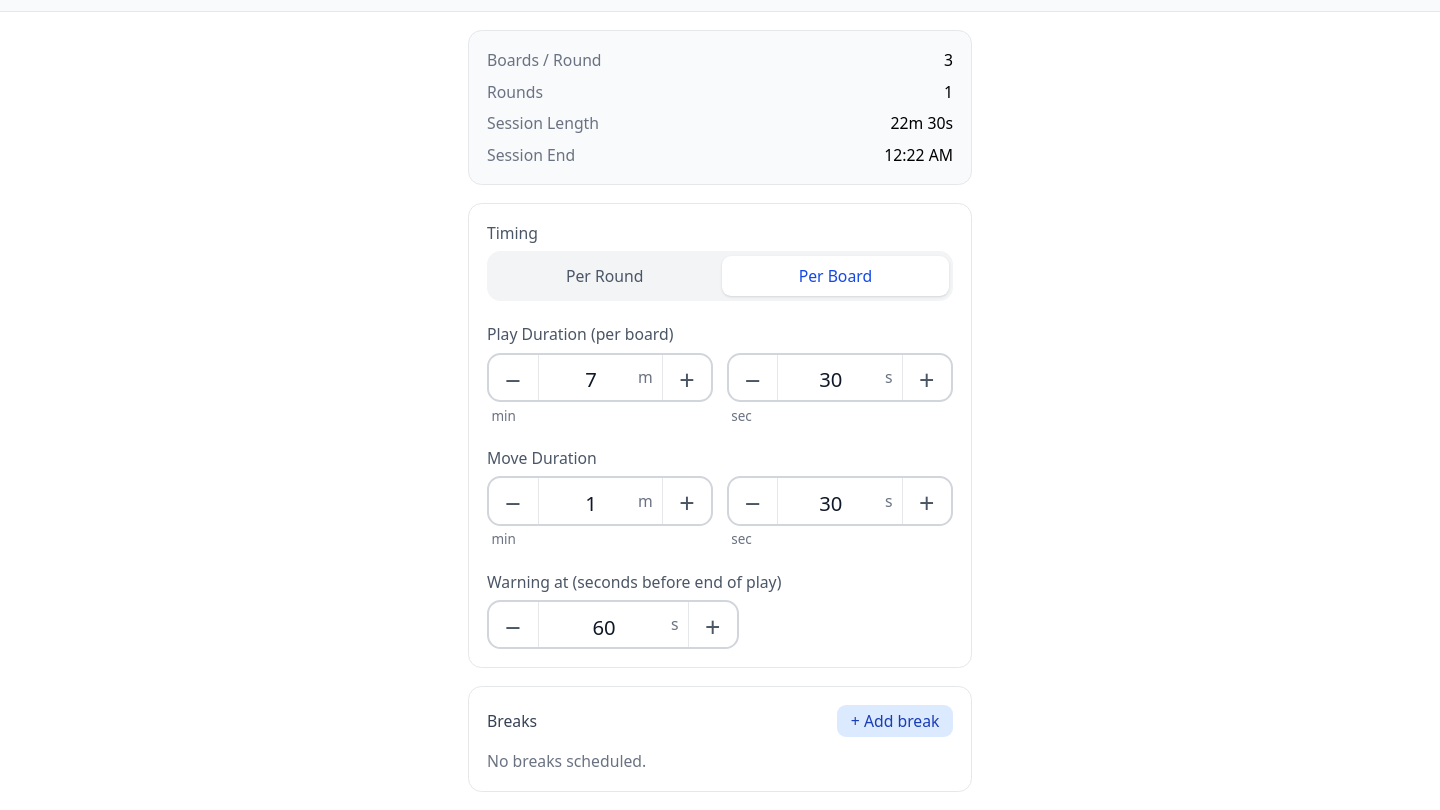
Test: TimerSetup (config screen) › adds a break when totalRounds is 1 (afterRound clamps to 1)
The width and height of the screenshot is (1440, 810).
(page scrolled)
Click the button "+ Add break" at [895, 721], box x1=837 y1=706 x2=953 y2=737
(page scrolled)
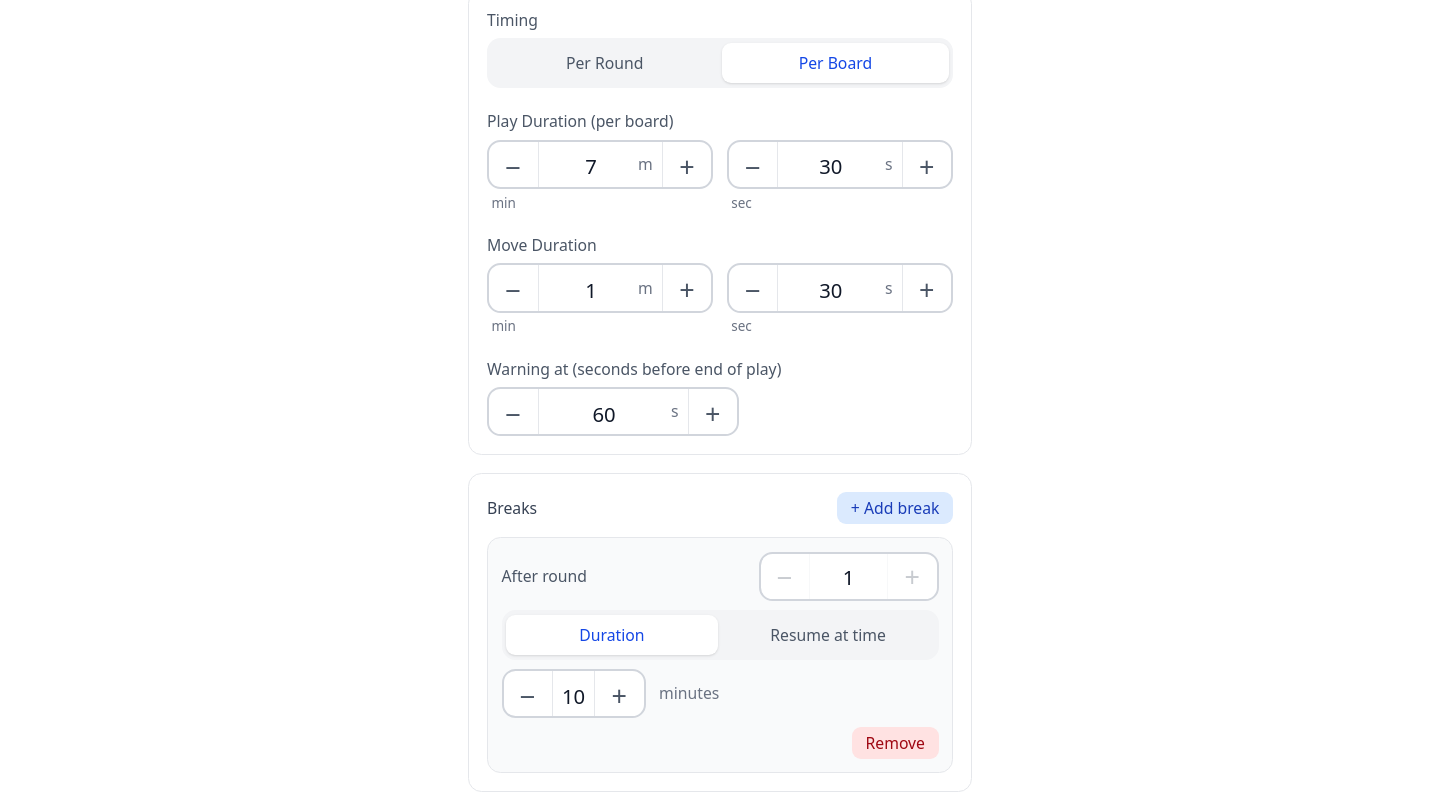
Now the number field named "Break 1 after round" is shown, box x1=810 y1=552 x2=887 y2=602
